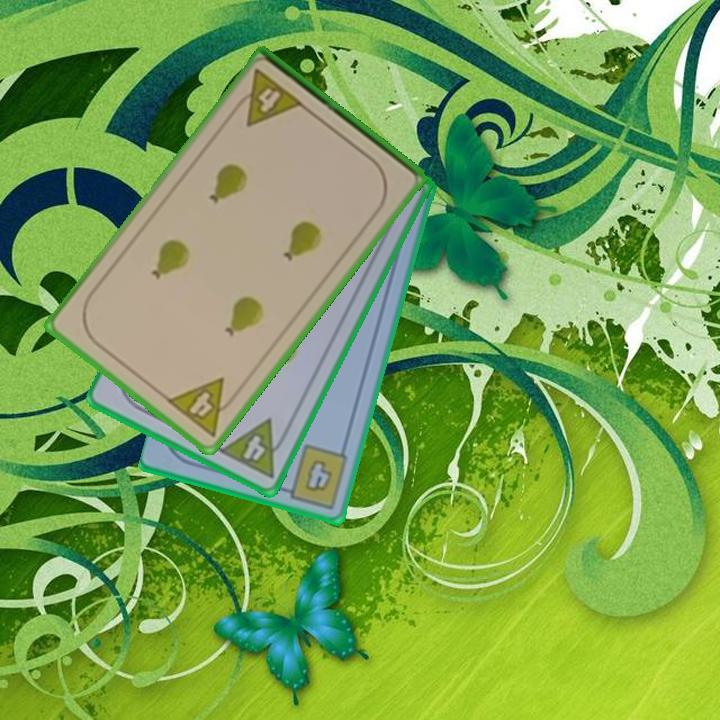4b: (277, 441, 352, 512)
4p: (163, 374, 243, 440), (228, 65, 307, 130), (216, 415, 293, 481)
